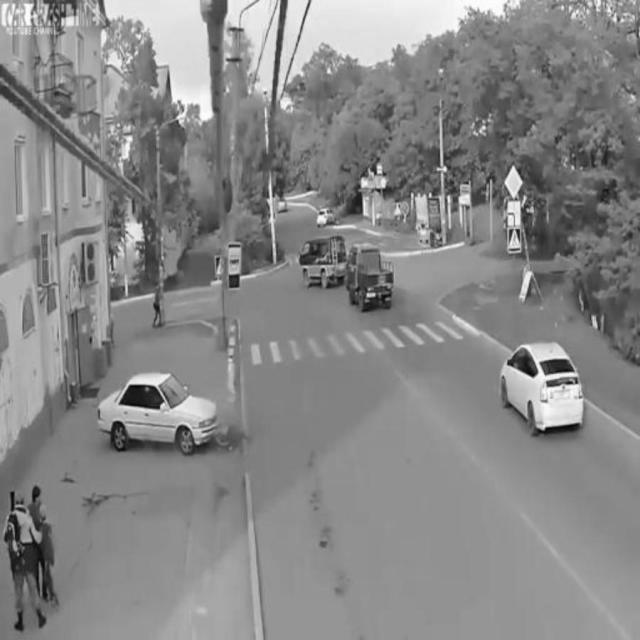person: (3, 487, 47, 631), (35, 506, 63, 614)
vehicle: (99, 372, 220, 458), (498, 340, 586, 440), (342, 240, 396, 308), (297, 234, 345, 291), (314, 202, 339, 226)
